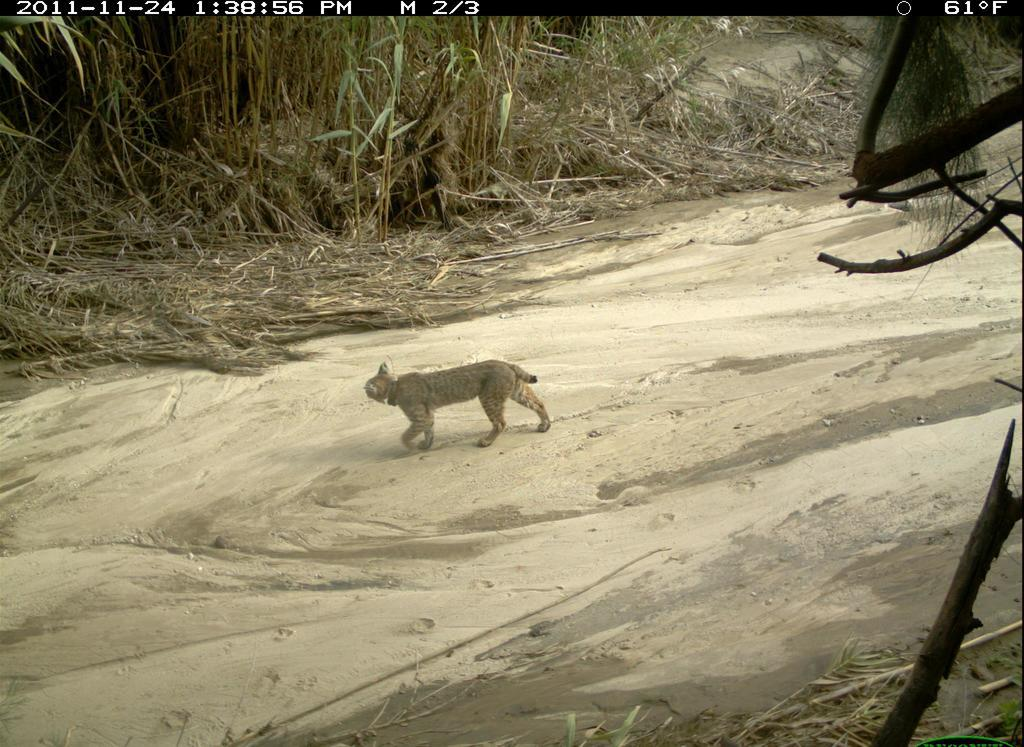bobcat: (363, 360, 556, 456)
